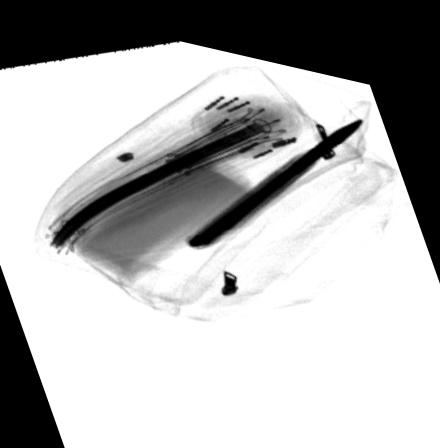Pliers: (184, 99, 365, 242)
